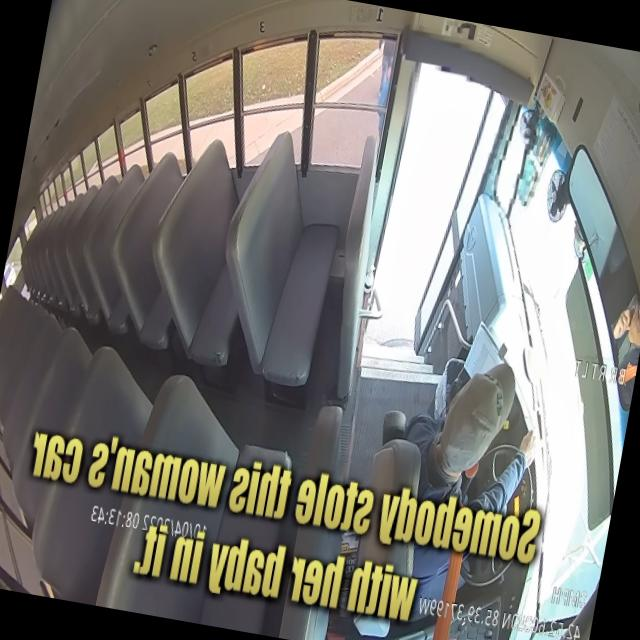bus-door: (414, 91, 508, 351)
